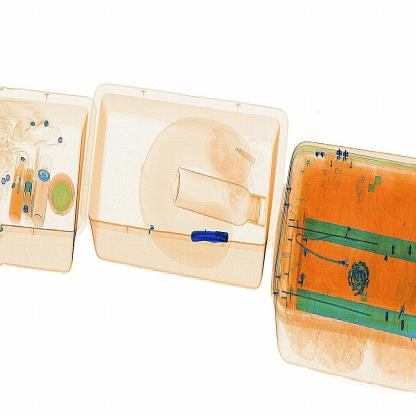knife: (187, 223, 234, 247)
